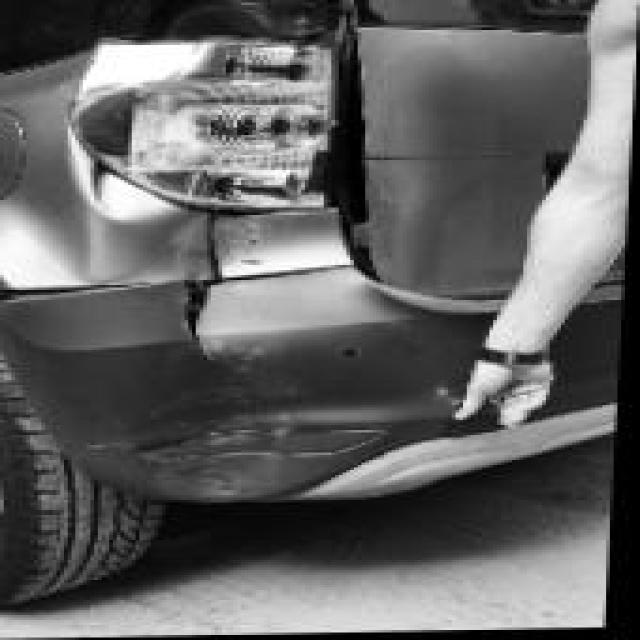Bumper: (4, 261, 448, 502)
Fender: (0, 133, 361, 291)
Light: (62, 38, 350, 218)
